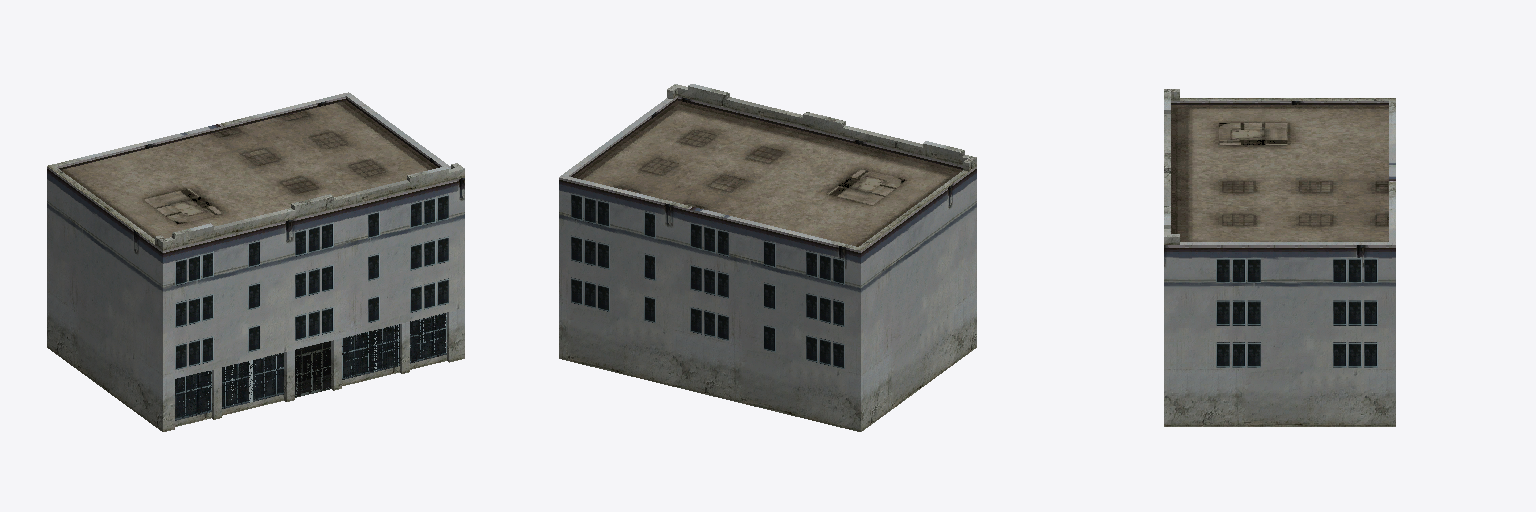
The picture shows the model from 3 angles: view 1: azimuth 30°, elevation 25°; view 2: azimuth 150°, elevation 25°; view 3: azimuth 270°, elevation 25°; orthographic projection.
Visible parts, largest first — view 1: SketchUp_ID101, SketchUp.005_ID151, SketchUp.004_ID143, SketchUp.002_ID127, SketchUp.001_ID114, SketchUp.006_ID164, SketchUp.003_ID135; view 2: SketchUp_ID101, SketchUp.005_ID151; view 3: SketchUp_ID101, SketchUp.005_ID151.
Boxes of the visible parts, <box> form: SketchUp_ID101: <box>47,92,464,431</box>; SketchUp.005_ID151: <box>61,100,437,238</box>; SketchUp.004_ID143: <box>222,352,283,408</box>; SketchUp.002_ID127: <box>342,324,399,379</box>; SketchUp.001_ID114: <box>295,341,330,397</box>; SketchUp.006_ID164: <box>410,313,446,363</box>; SketchUp.003_ID135: <box>175,370,211,420</box>; SketchUp_ID101: <box>559,84,976,431</box>; SketchUp.005_ID151: <box>573,100,962,246</box>; SketchUp_ID101: <box>1164,89,1395,426</box>; SketchUp.005_ID151: <box>1171,105,1388,241</box>.
Bounding box in the file's own units: 22.86 × 14.02 × 15.24.
4 materials, 4 textured.